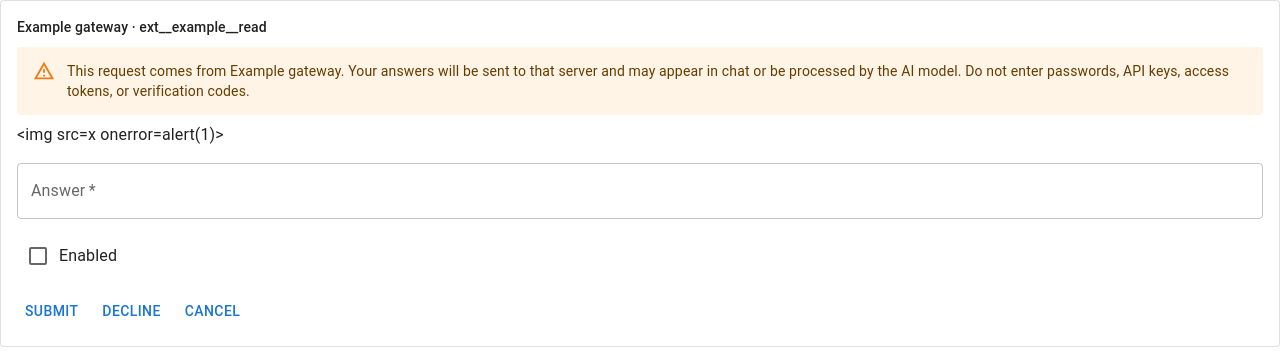
Test: ChatElicitationCard › confirms the answer in place, then hands off without waiting on the turn
Type "private answer" into the field labelled "Answer *".
click(640, 191); type("private answer")  # box [17, 163, 1263, 219]
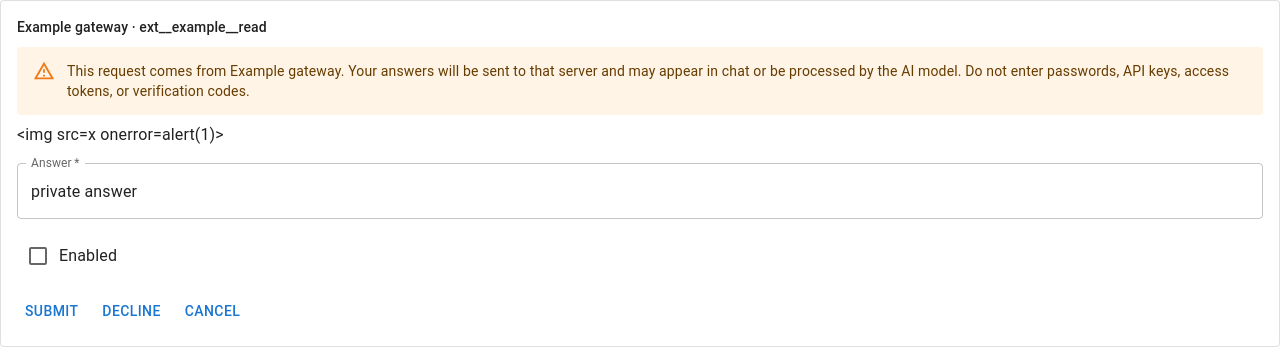
Click the button "Submit".
click(52, 311)  # box [17, 293, 86, 330]
Wait 1000 ms
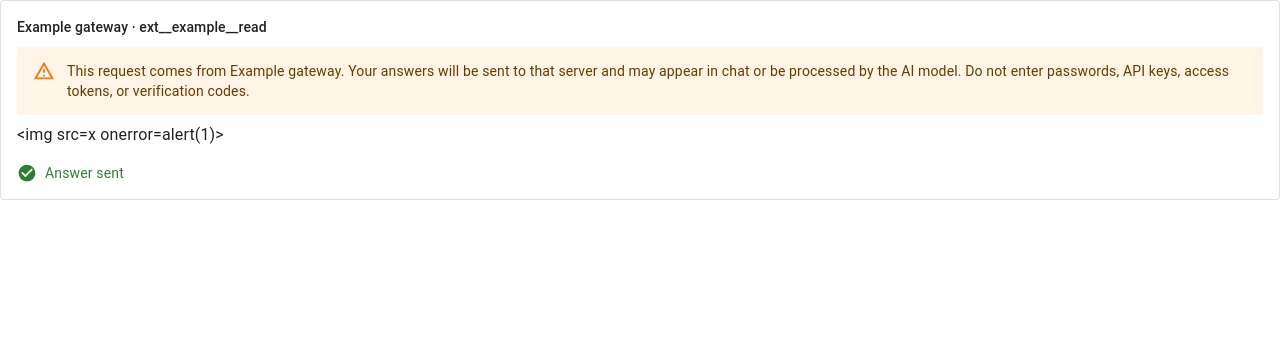
expect the text "Answer sent" is shown: met, box [45, 163, 124, 183]
expect the button "Submit" is gone: met
